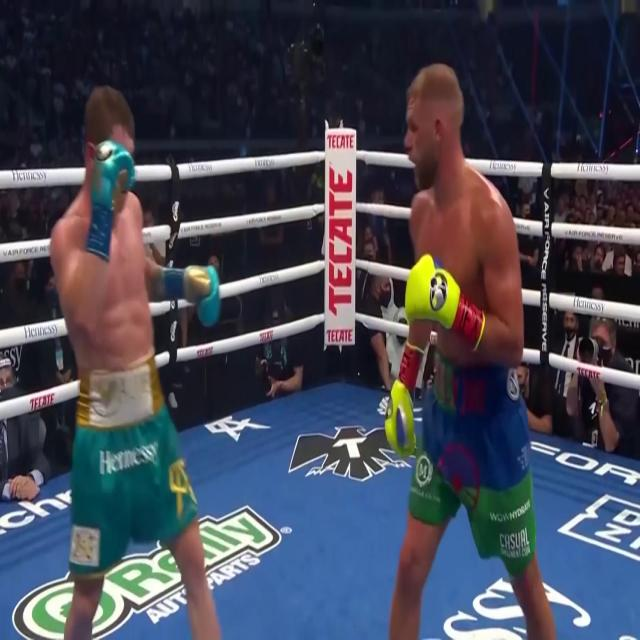boxer_1: (404, 63, 517, 372)
boxer_2: (57, 82, 154, 374)
gloves_1: (404, 254, 483, 348), (384, 343, 423, 458)
gloves_2: (86, 140, 135, 261), (148, 265, 220, 328)
